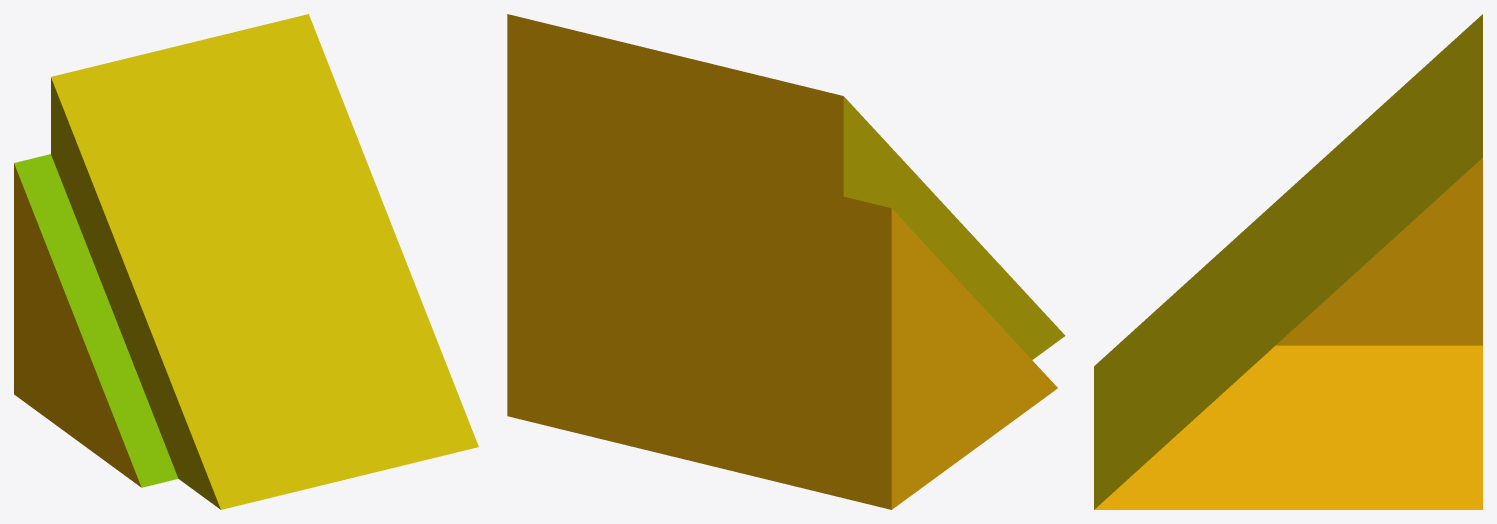
File: slitted_wedge_edge.dae
3 renders of one model, left to right at view 1: azimuth 30°, elevation 25°; view 2: azimuth 150°, elevation 25°; view 3: azimuth 270°, elevation 25°, orthographic. The views are drawn at different scales.
Visible parts, largest first — view 1: Cube; view 2: Cube; view 3: Cube.
Part boxes in pixels (box(x1,y1,x2,y2)): Cube: box(14, 14, 478, 509); Cube: box(507, 14, 1065, 509); Cube: box(1094, 14, 1482, 509).
Size of the model in its own units: 0.25 by 0.25 by 0.25.
